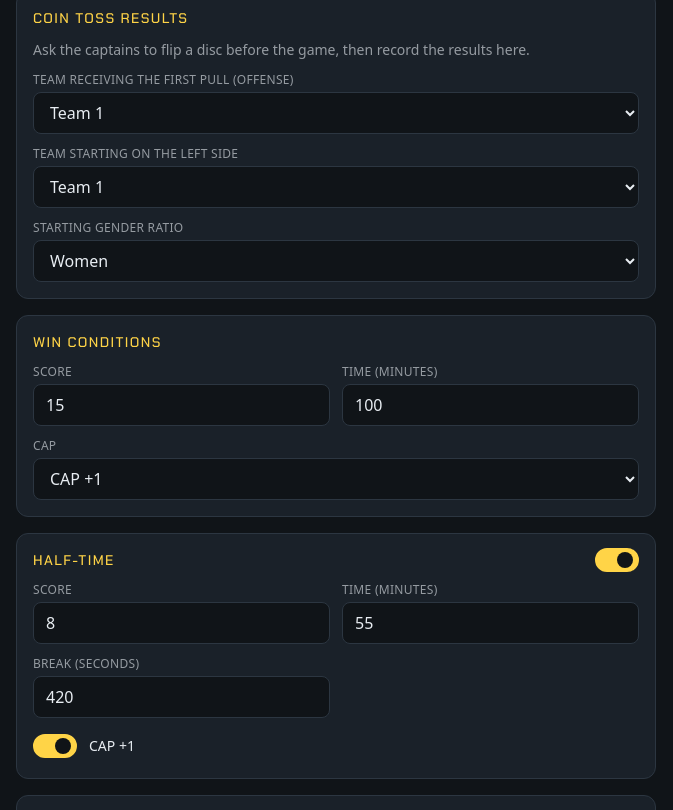
config screen numeric fields › commits an in-range value as it is typed
The width and height of the screenshot is (673, 810).
(page scrolled)
Replace the text in the 2nd field with "4" at (490, 405), box [342,384,639,426]
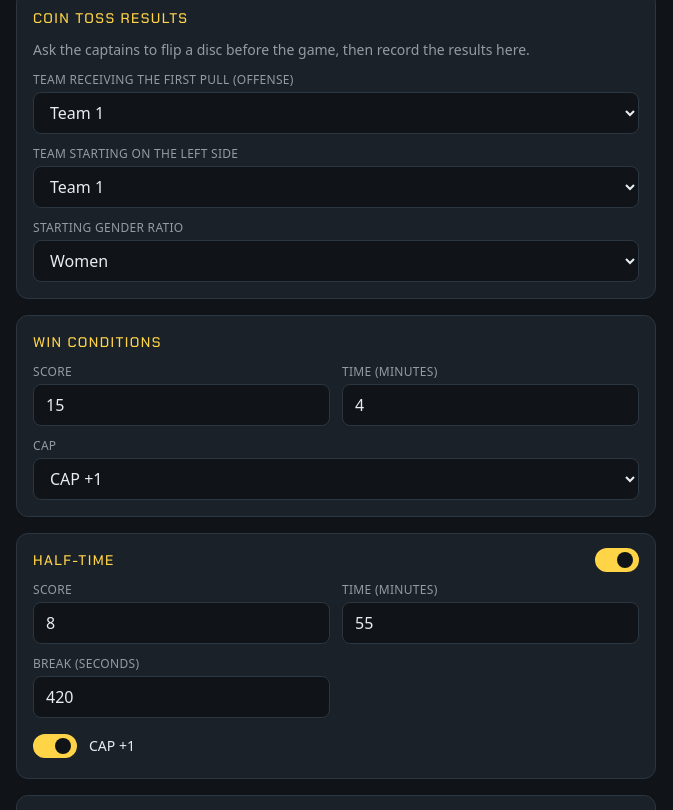
Replace the text in the 2nd field with "40" at (490, 405), box [342,384,639,426]
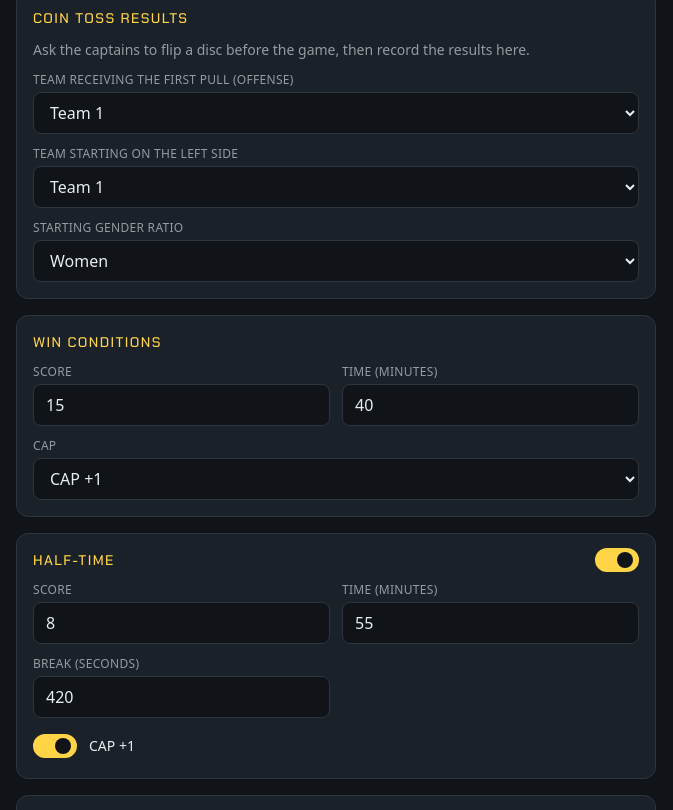
Leave the 2nd field, box [342,384,639,426]
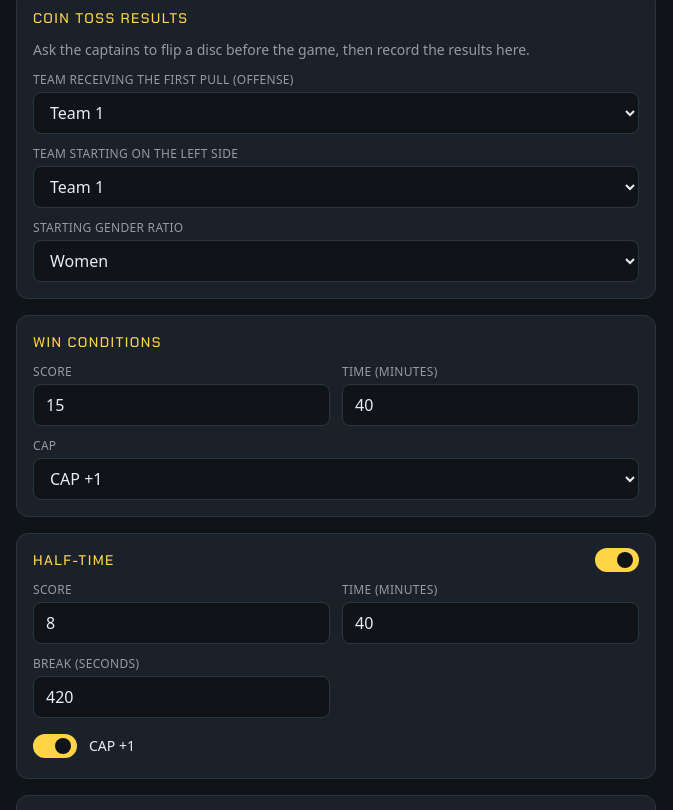
expect the 4th field holds "40": met, box [342,602,639,644]
